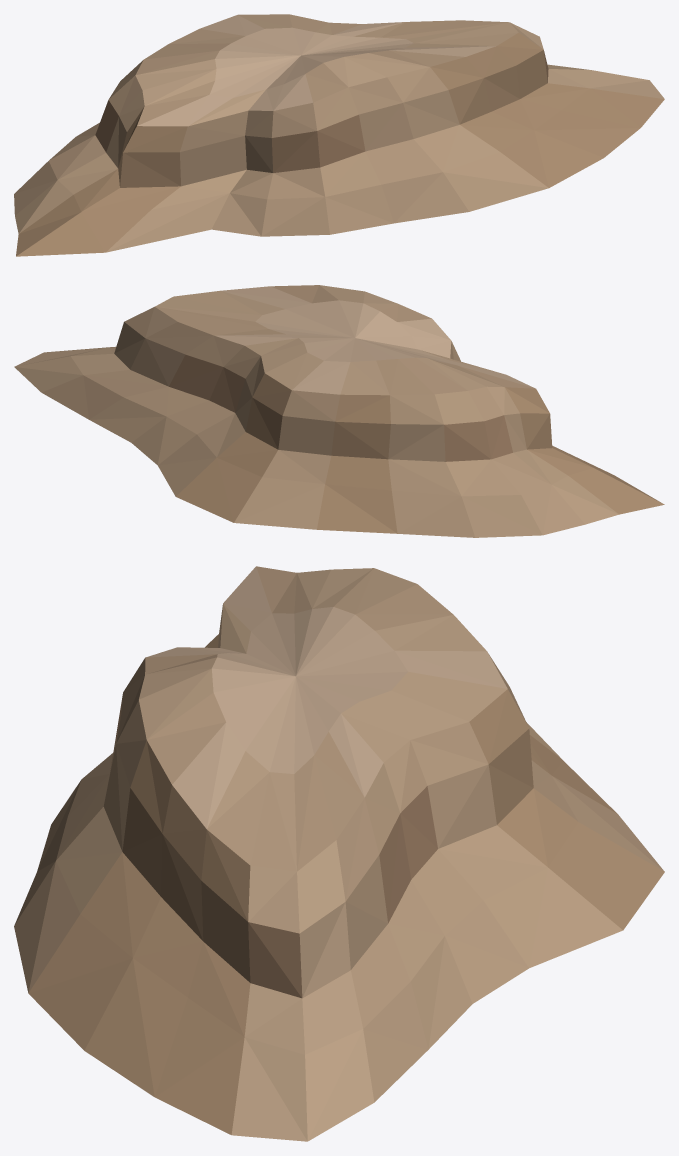
The model's file is SplitRidge.fbx.
3 views of the same model, one above another, from view 1: azimuth 30°, elevation 25°; view 2: azimuth 150°, elevation 25°; view 3: azimuth 270°, elevation 25° (orthographic). The views are drawn at different scales.
Parts seen in each view (by area): view 1: SplitRidge; view 2: SplitRidge; view 3: SplitRidge.
Part boxes in pixels (box(x1,y1,x2,y2)): SplitRidge: box(14, 14, 664, 256); SplitRidge: box(14, 285, 664, 537); SplitRidge: box(14, 566, 664, 1141).
Size of the model in its own units: 15200 by 2800 by 8000.
1 material, 1 textured.
